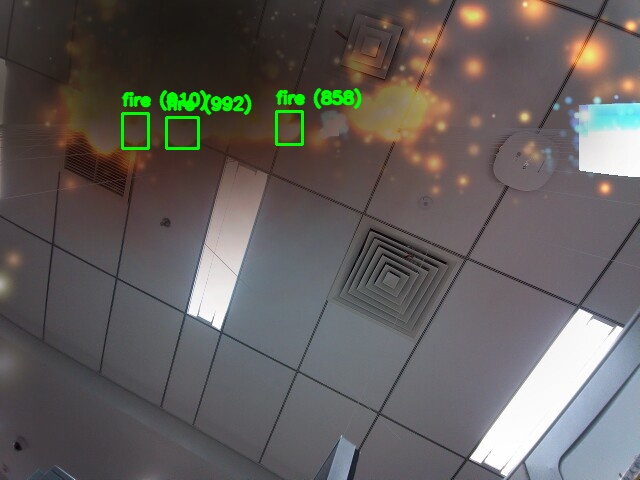fire: (166, 117, 198, 148), (122, 113, 148, 148), (276, 111, 302, 144)
